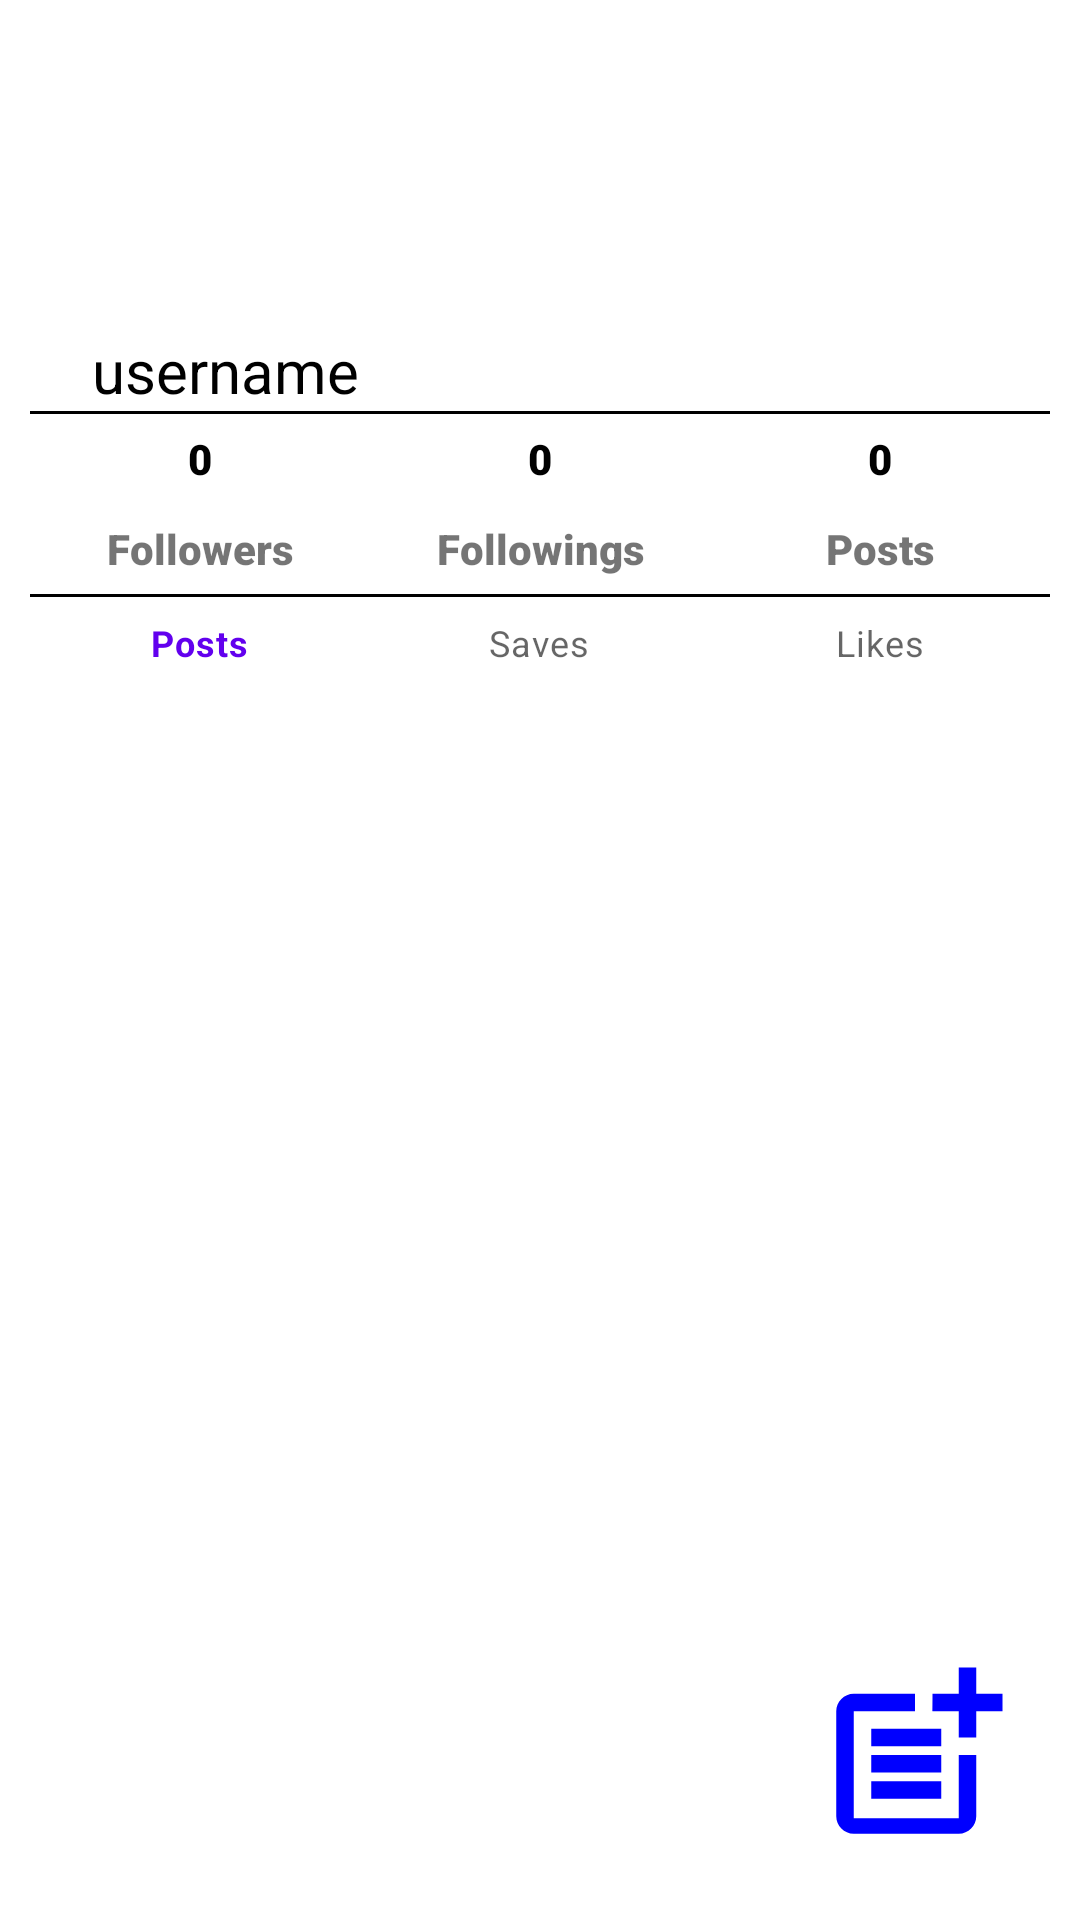

Point at icon controls on the screen. Image size 1080w x 1920h, points as (x,y).
post add: (919,1750)
